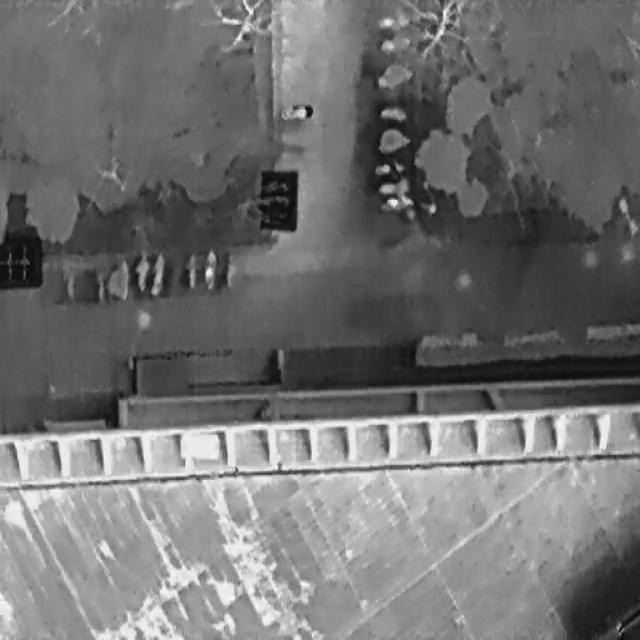Bicycle: (374, 60, 412, 86), (109, 255, 128, 300), (377, 128, 410, 152), (151, 252, 165, 296), (375, 12, 409, 28), (204, 245, 216, 290), (378, 105, 409, 121), (136, 245, 147, 290), (279, 104, 314, 118), (378, 35, 411, 49), (186, 252, 197, 290), (373, 160, 405, 172), (383, 196, 413, 208), (379, 180, 407, 192)
